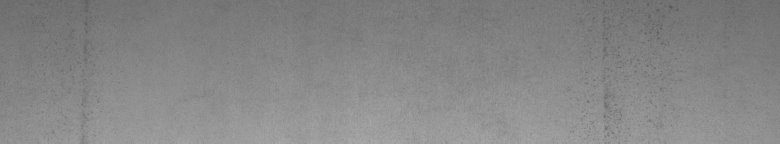ib: (604, 5, 678, 136)
